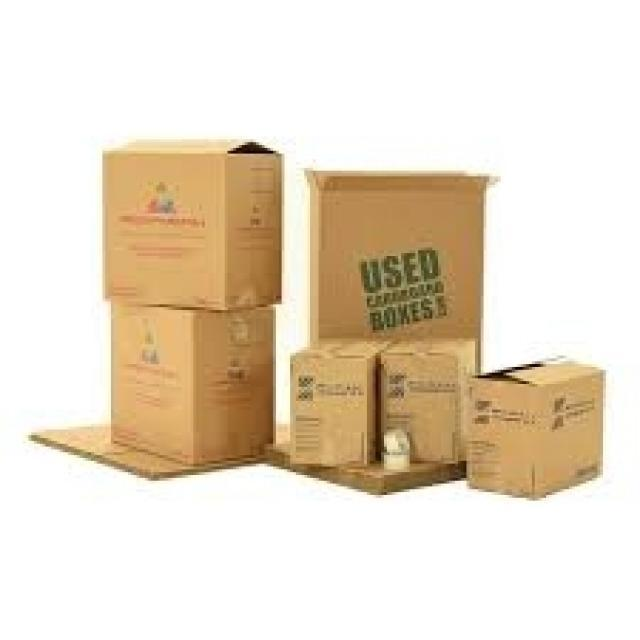cardboard paper: (311, 174, 487, 358), (103, 150, 280, 306), (110, 302, 271, 462), (467, 361, 602, 496), (290, 342, 377, 463)
